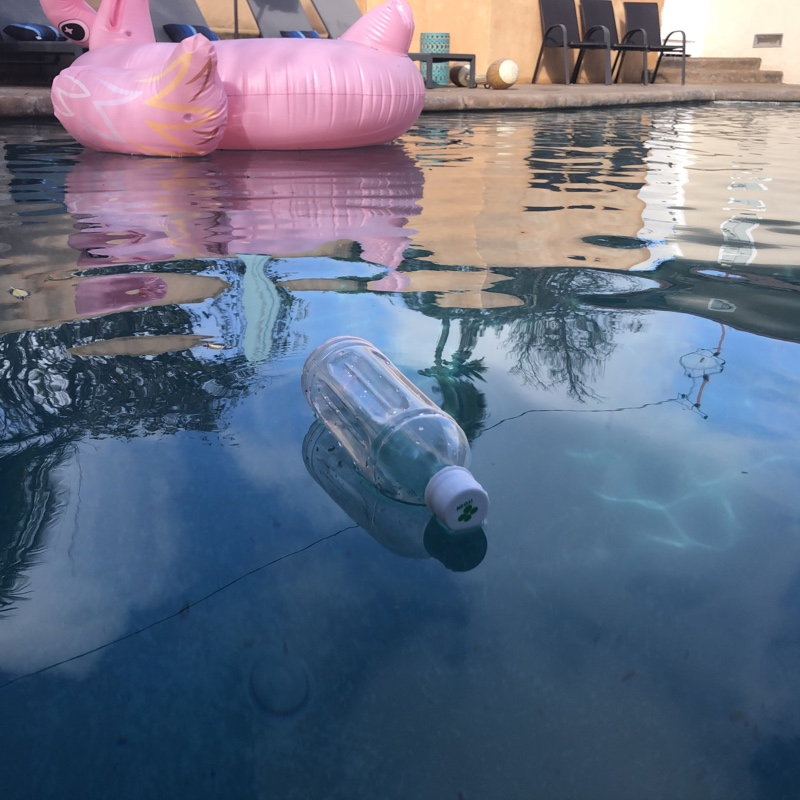Plastic Bottle: (298, 331, 492, 538)
